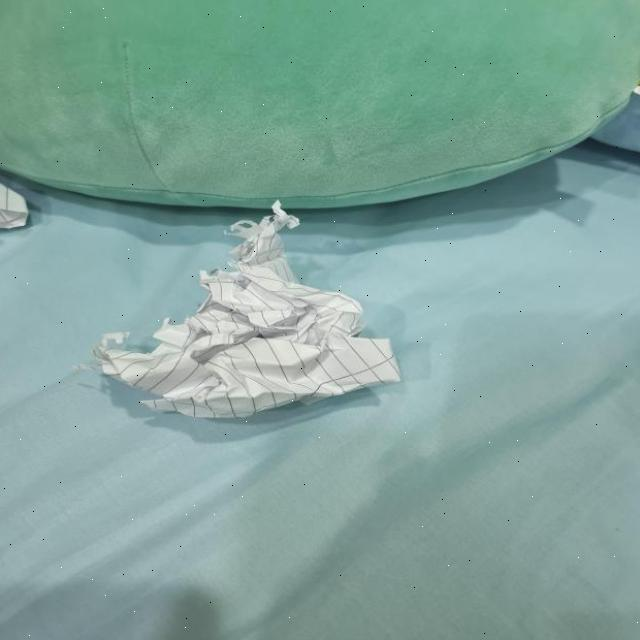trash: (98, 212, 408, 422)
